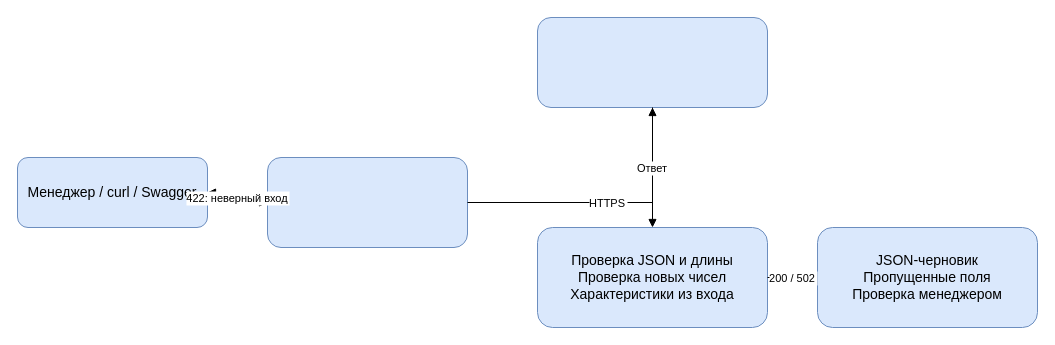
Image size: 1055x345. Some labels were removed from this diagram. Each missing label, with the centre of its shape:
"Docker: FastAPI POST /cards Pydantic: вход" goes at point (367, 202).
"Внешний LLM API Промпт + данные Ключ из окружения" goes at point (652, 62).
